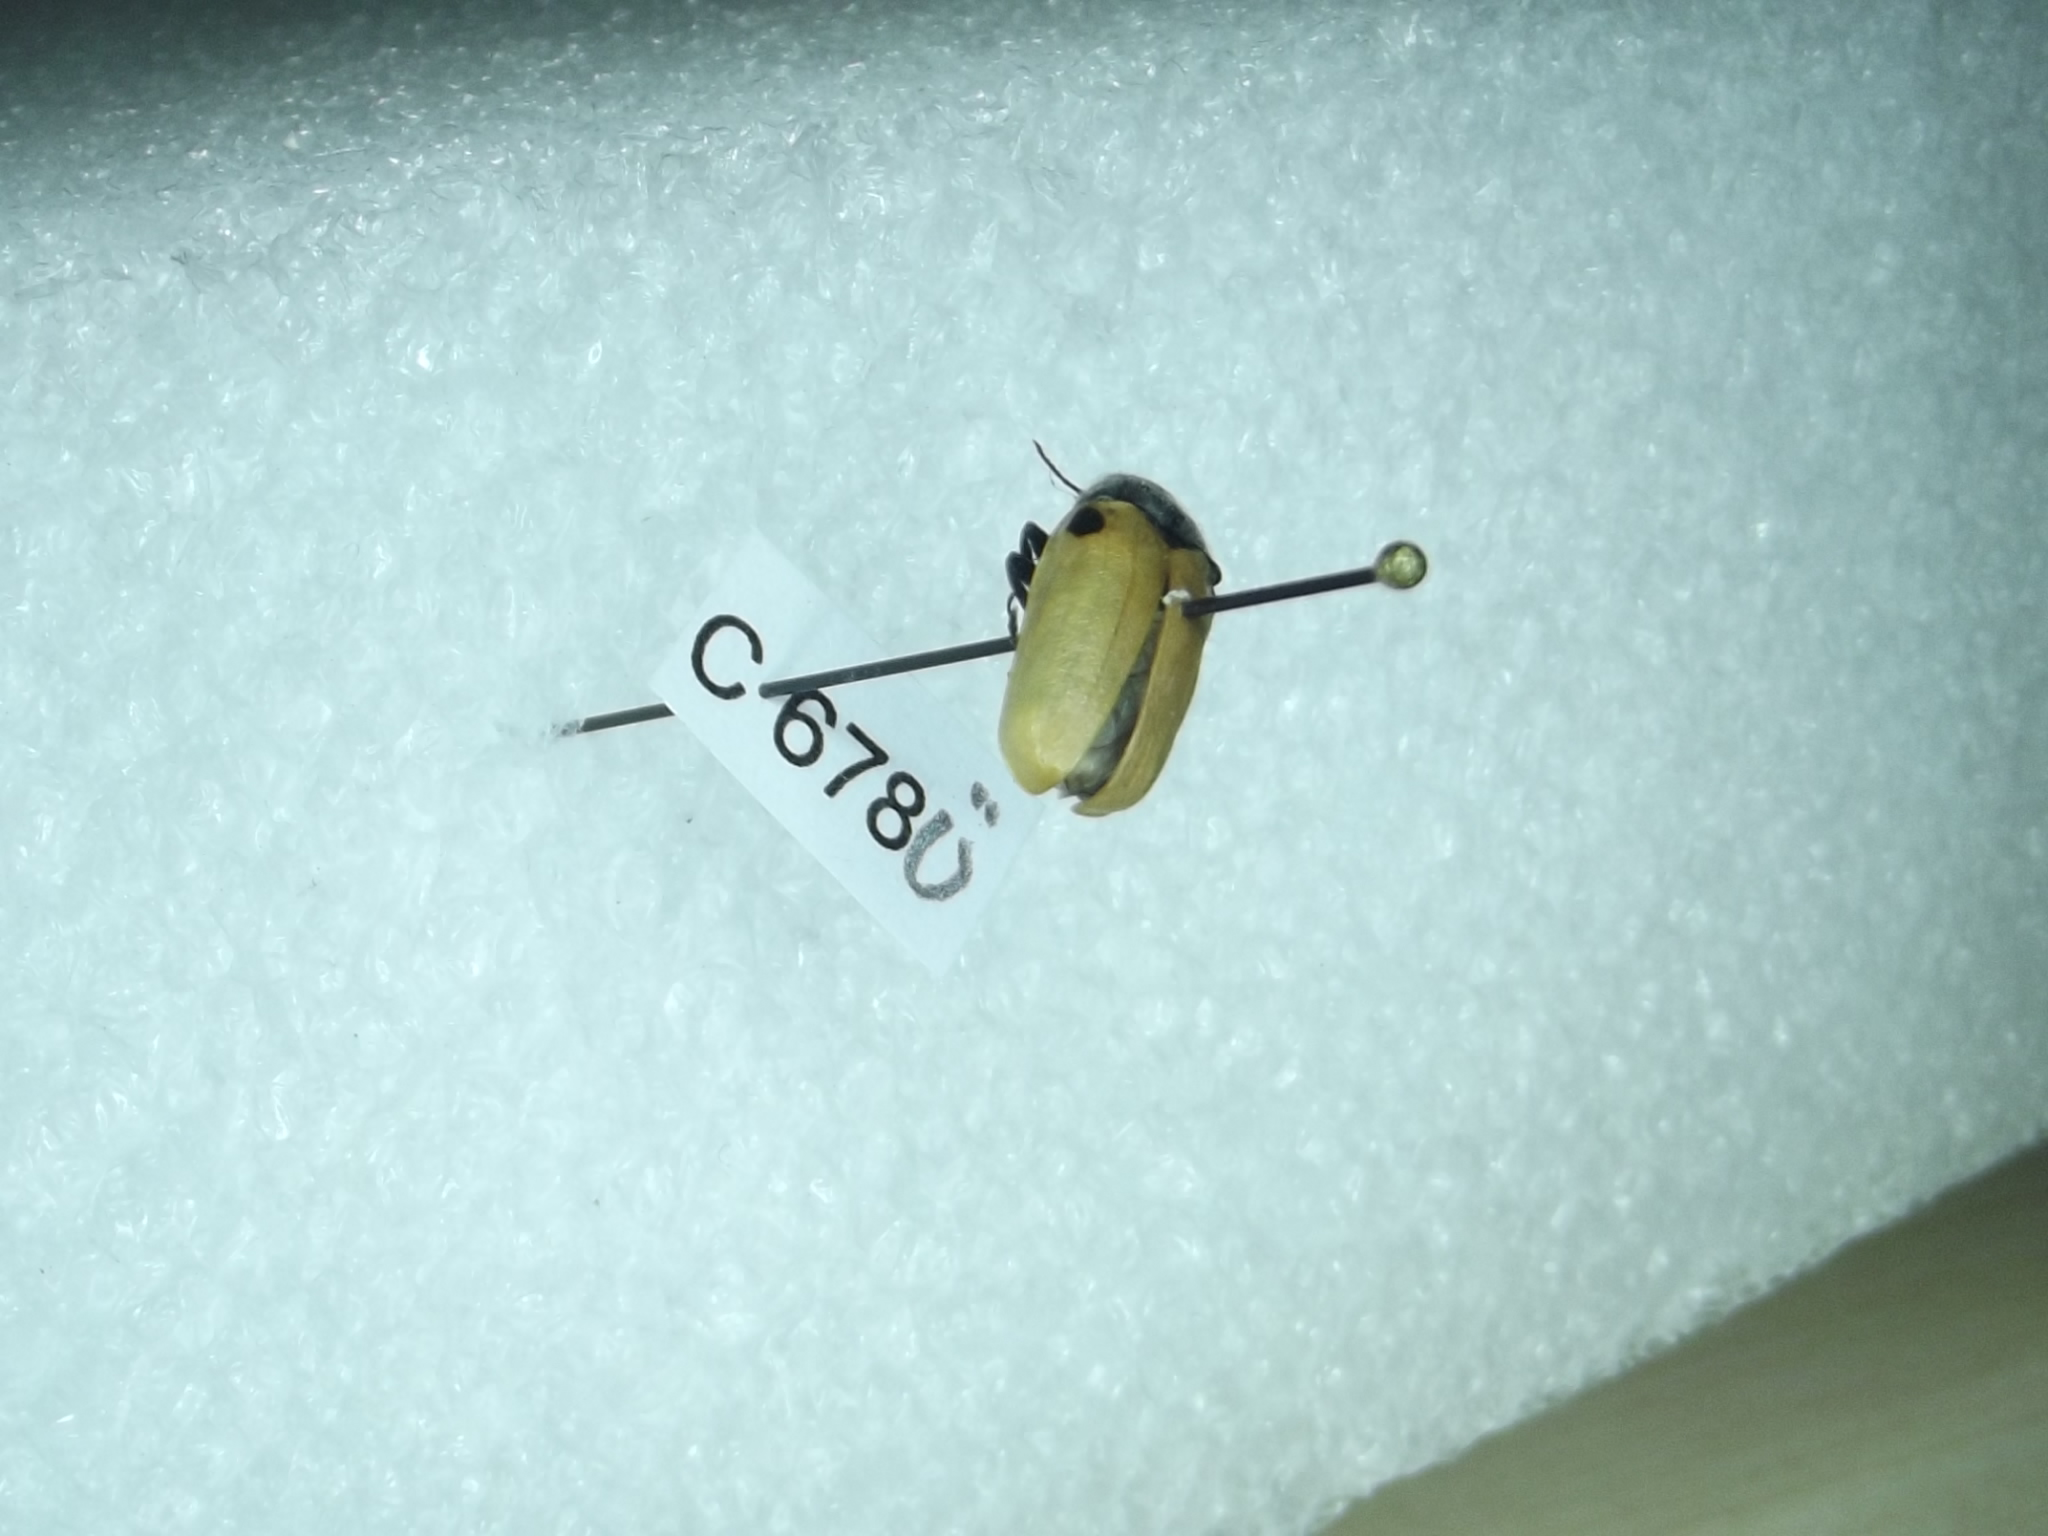Labidostomis_longimana: (976, 431, 1230, 842)
